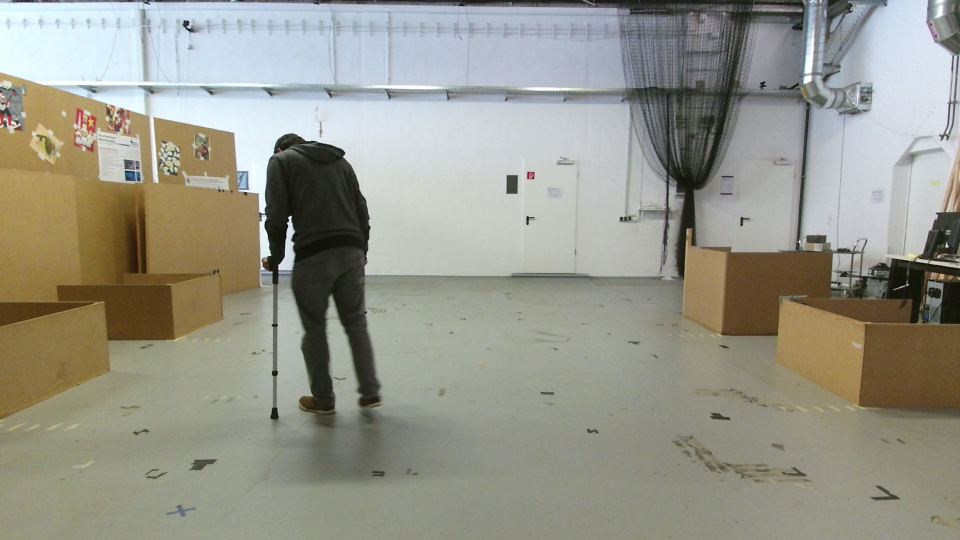crutches: (254, 122, 386, 428)
